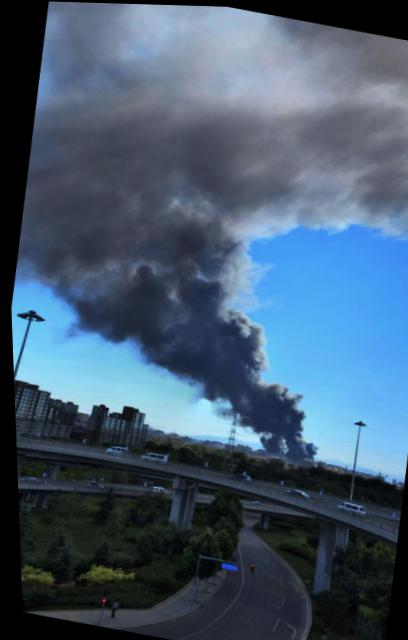smoke: (56, 247, 233, 370), (140, 194, 259, 281), (201, 304, 273, 378), (235, 377, 309, 439), (174, 362, 241, 404), (282, 429, 317, 461), (254, 427, 285, 456)
